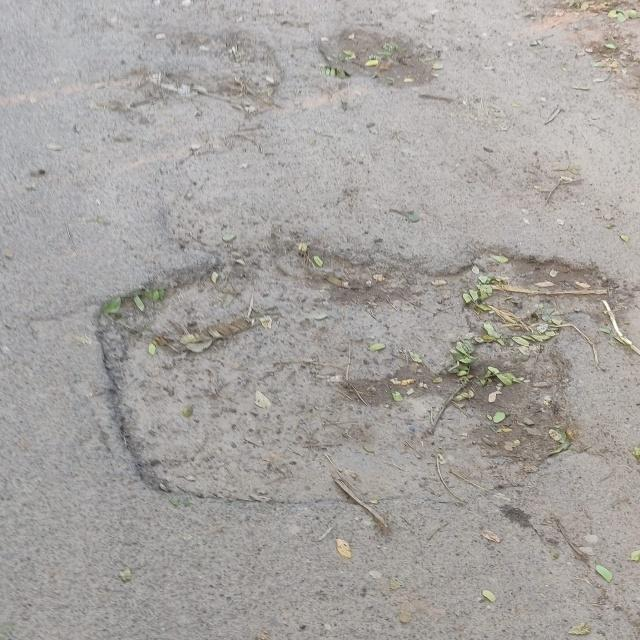Pothole: (329, 29, 452, 98), (142, 64, 242, 128)
Surface Erosion: (28, 39, 640, 555)
